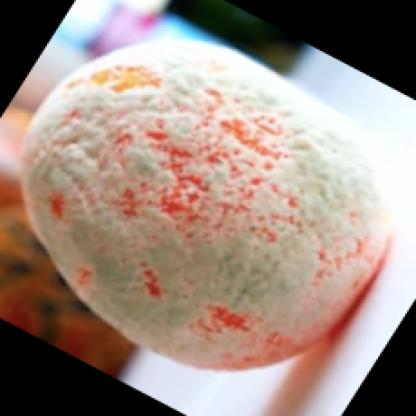rotten: (25, 39, 388, 372)
